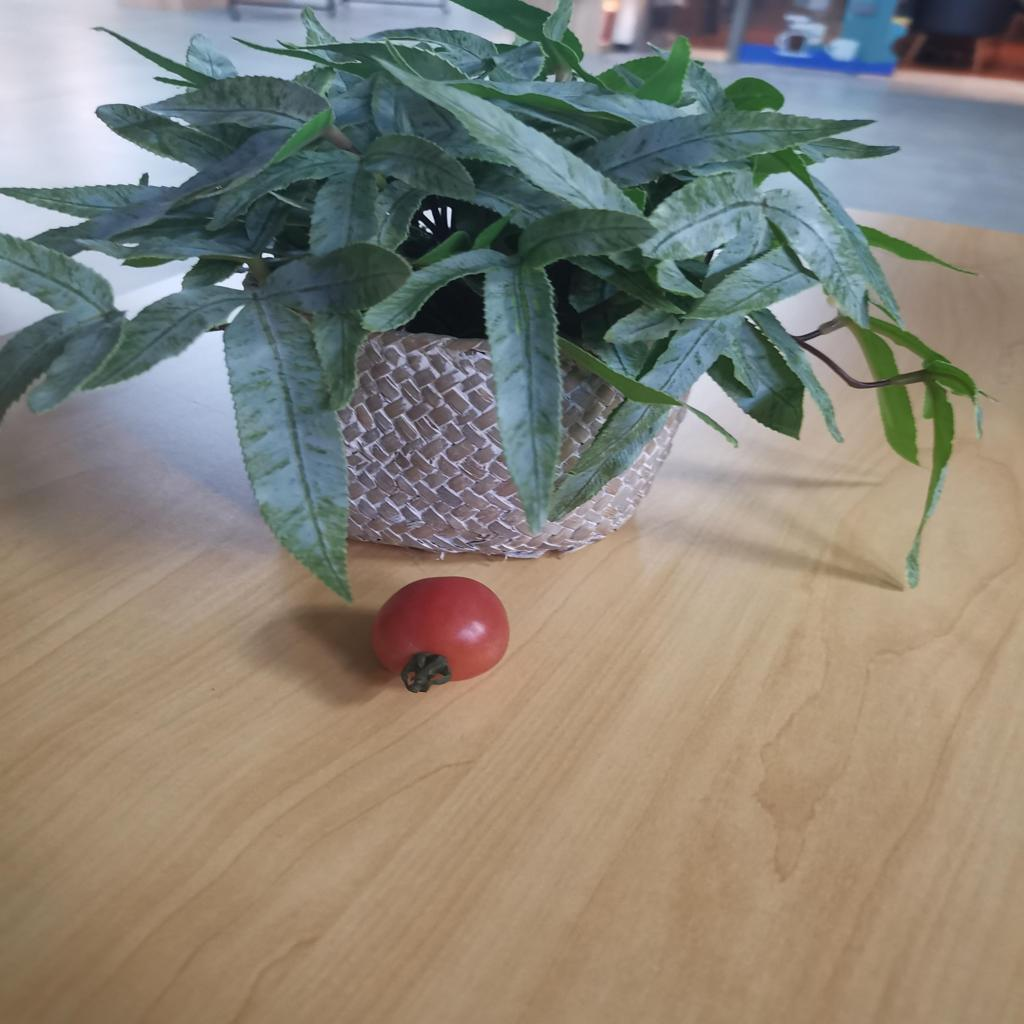tomato: (370, 579, 513, 682)
